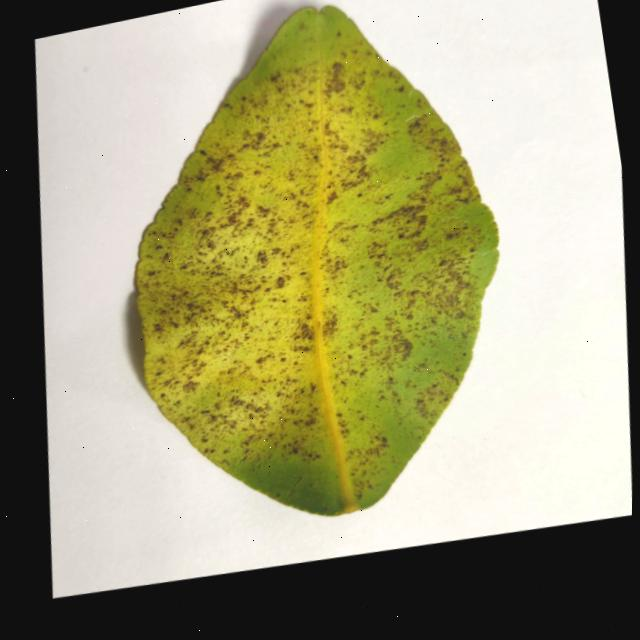melanose: (135, 7, 497, 516)
